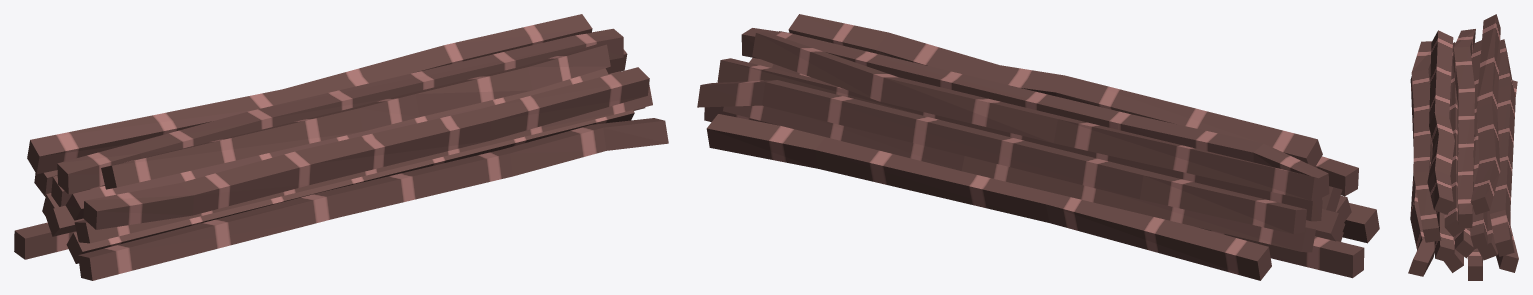
The model's file is SM_Prop_SugarCane_Pile_01.glb.
3 views of the same model, side by side, from view 1: azimuth 30°, elevation 25°; view 2: azimuth 150°, elevation 25°; view 3: azimuth 270°, elevation 25° (orthographic). The views are drawn at different scales.
Parts seen in each view (by area): view 1: SM_Prop_SugarCane_Pile_01_part00; view 2: SM_Prop_SugarCane_Pile_01_part00; view 3: SM_Prop_SugarCane_Pile_01_part00.
Boxes of the visible parts, left/top/right/bottom form: SM_Prop_SugarCane_Pile_01_part00: left=14, top=14, right=668, bottom=280; SM_Prop_SugarCane_Pile_01_part00: left=697, top=14, right=1379, bottom=280; SM_Prop_SugarCane_Pile_01_part00: left=1408, top=14, right=1518, bottom=280.
Bounding box in the file's own units: 2.04 × 0.3227 × 0.4591.
1 material, 1 textured.
